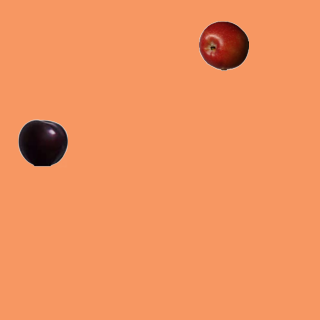Apple Braeburn: (198, 20, 248, 70)
Cherry Wax Black: (17, 117, 67, 167)
